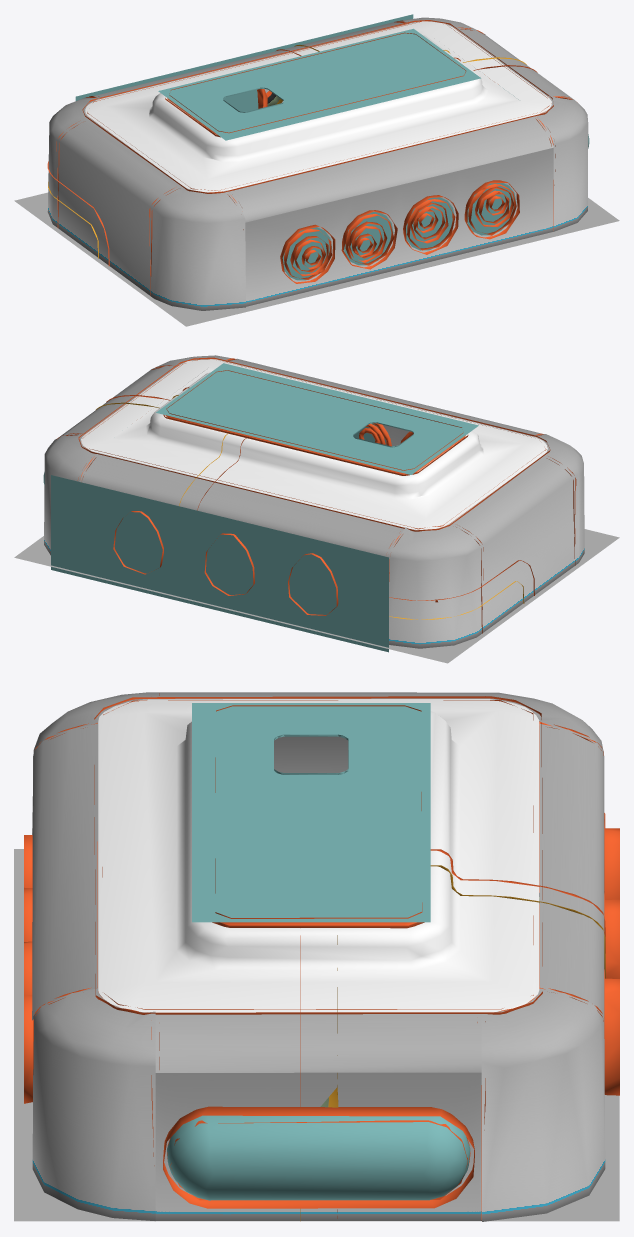
The model's file is Archi_Collider(1).fbx.
3 views of the same model, one above another, from view 1: azimuth 30°, elevation 25°; view 2: azimuth 150°, elevation 25°; view 3: azimuth 270°, elevation 25° (orthographic). The views are drawn at different scales.
Visible parts, largest first — view 1: wall_egg.001; view 2: wall_egg.001; view 3: wall_egg.001.
Part boxes in pixels (x1=…): wall_egg.001: x1=14, y1=14, x2=619, y2=326; wall_egg.001: x1=14, y1=355, x2=619, y2=663; wall_egg.001: x1=14, y1=692, x2=619, y2=1221.
Size of the model in its own units: 1044 by 290 by 682.
Materials: 3 (1 with a texture image).
